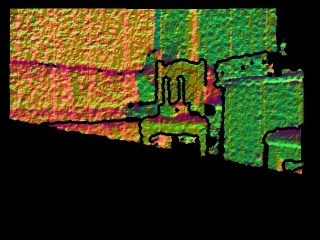station: (158, 76, 190, 118)
